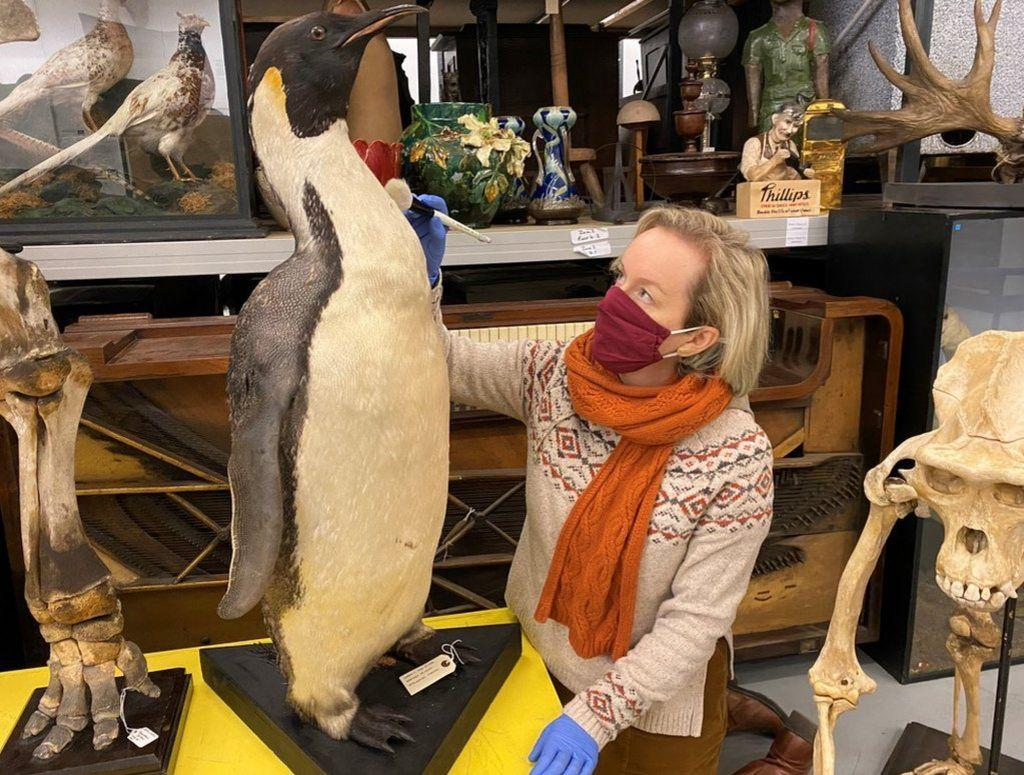emporer: (195, 0, 496, 744)
